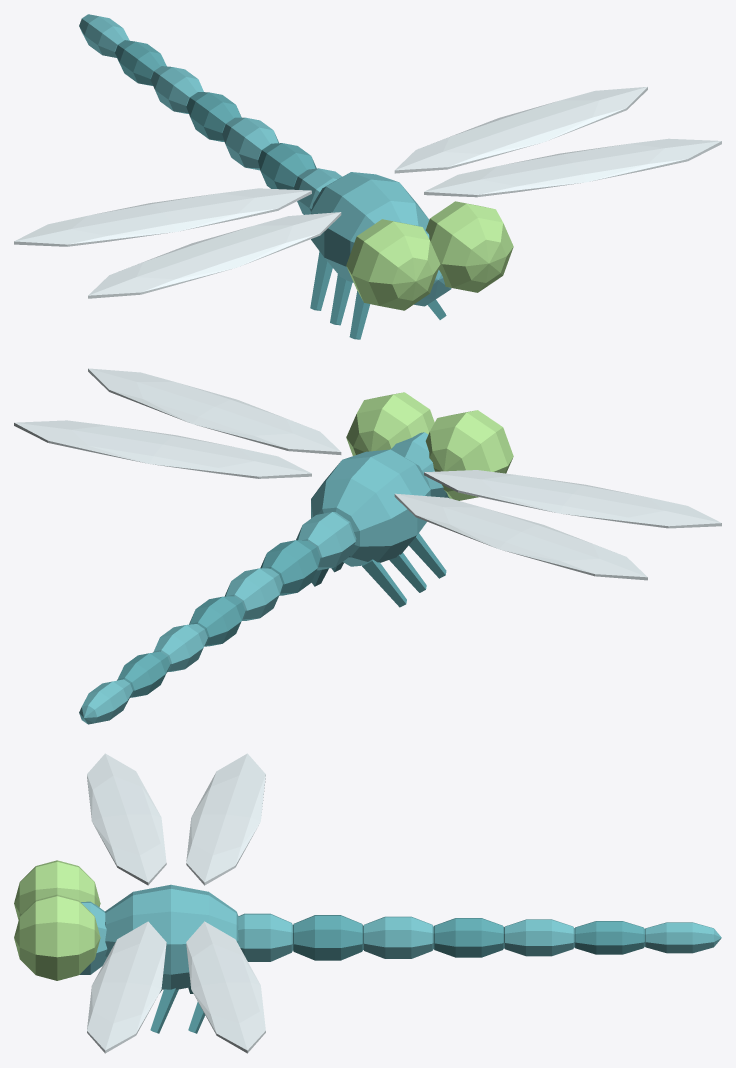
The model's file is Mdl_Dragonfly.fbx.
The picture shows the model from 3 angles, top to bottom: view 1: azimuth 30°, elevation 25°; view 2: azimuth 150°, elevation 25°; view 3: azimuth 270°, elevation 25°; orthographic projection. The views are drawn at different scales.
Visible parts, largest first — view 1: Body, WingBR, WingFL, WingBL, WingFR; view 2: Body, WingFR, WingBL, WingBR, WingFL; view 3: Body, WingBL, WingBR, WingFL, WingFR.
Part boxes in pixels (x1=…): Body: x1=79, y1=14, x2=513, y2=339; WingBR: x1=14, y1=188, x2=311, y2=246; WingFL: x1=424, y1=138, x2=721, y2=197; WingBL: x1=394, y1=86, x2=647, y2=173; WingFR: x1=88, y1=212, x2=341, y2=298; Body: x1=79, y1=392, x2=513, y2=724; WingFR: x1=424, y1=470, x2=721, y2=528; WingBL: x1=14, y1=420, x2=311, y2=478; WingBR: x1=394, y1=493, x2=647, y2=580; WingFL: x1=88, y1=368, x2=341, y2=454; Body: x1=14, y1=860, x2=721, y2=1033; WingBL: x1=186, y1=921, x2=265, y2=1053; WingBR: x1=186, y1=753, x2=265, y2=885; WingFL: x1=87, y1=921, x2=166, y2=1053; WingFR: x1=87, y1=753, x2=166, y2=885.
Bounding box in the file's own units: 1.3 × 0.2751 × 1.31.
